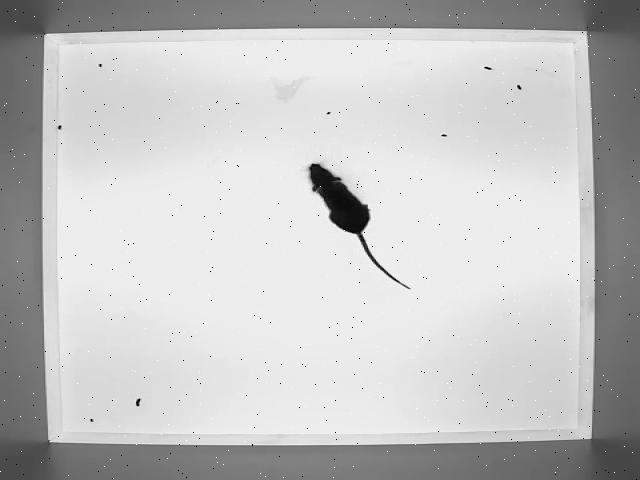Tikus: (300, 156, 420, 294)
